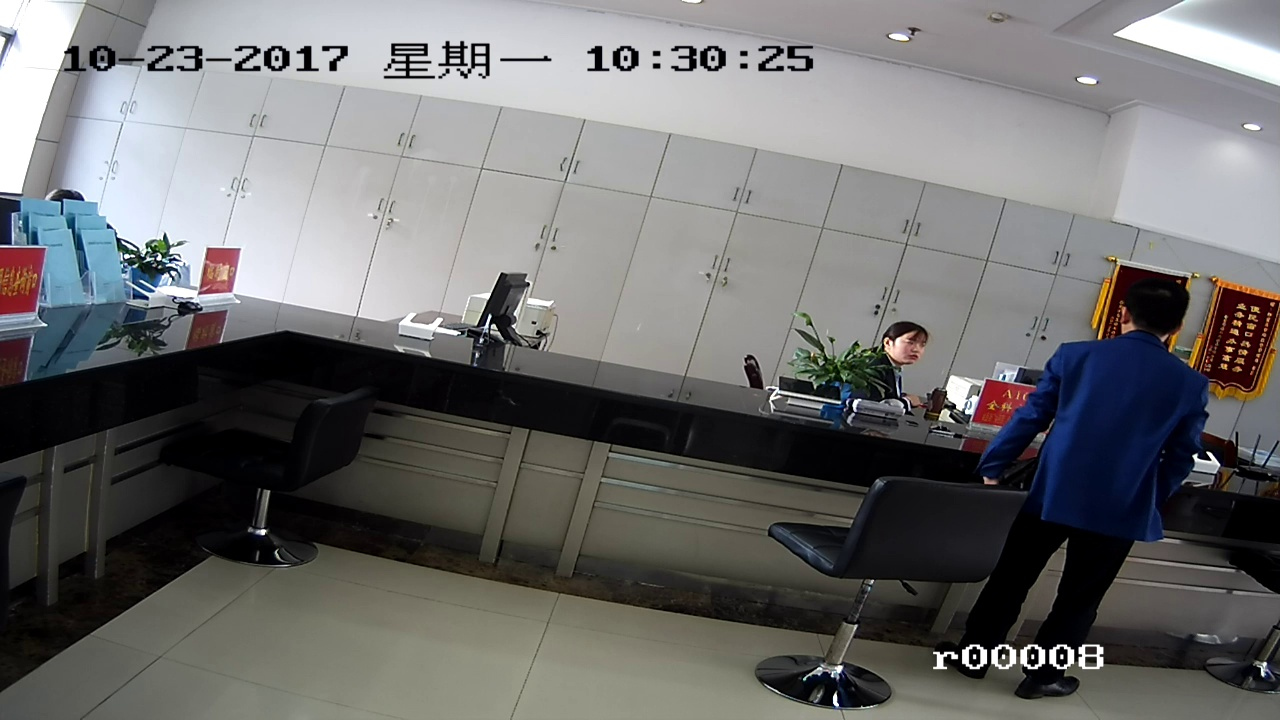billboard: (1206, 290, 1265, 401)
chair: (743, 471, 1025, 720), (190, 375, 362, 570)
monitor: (469, 268, 529, 357)
person: (1031, 275, 1194, 689), (861, 311, 939, 390)
pot: (803, 333, 877, 411)
